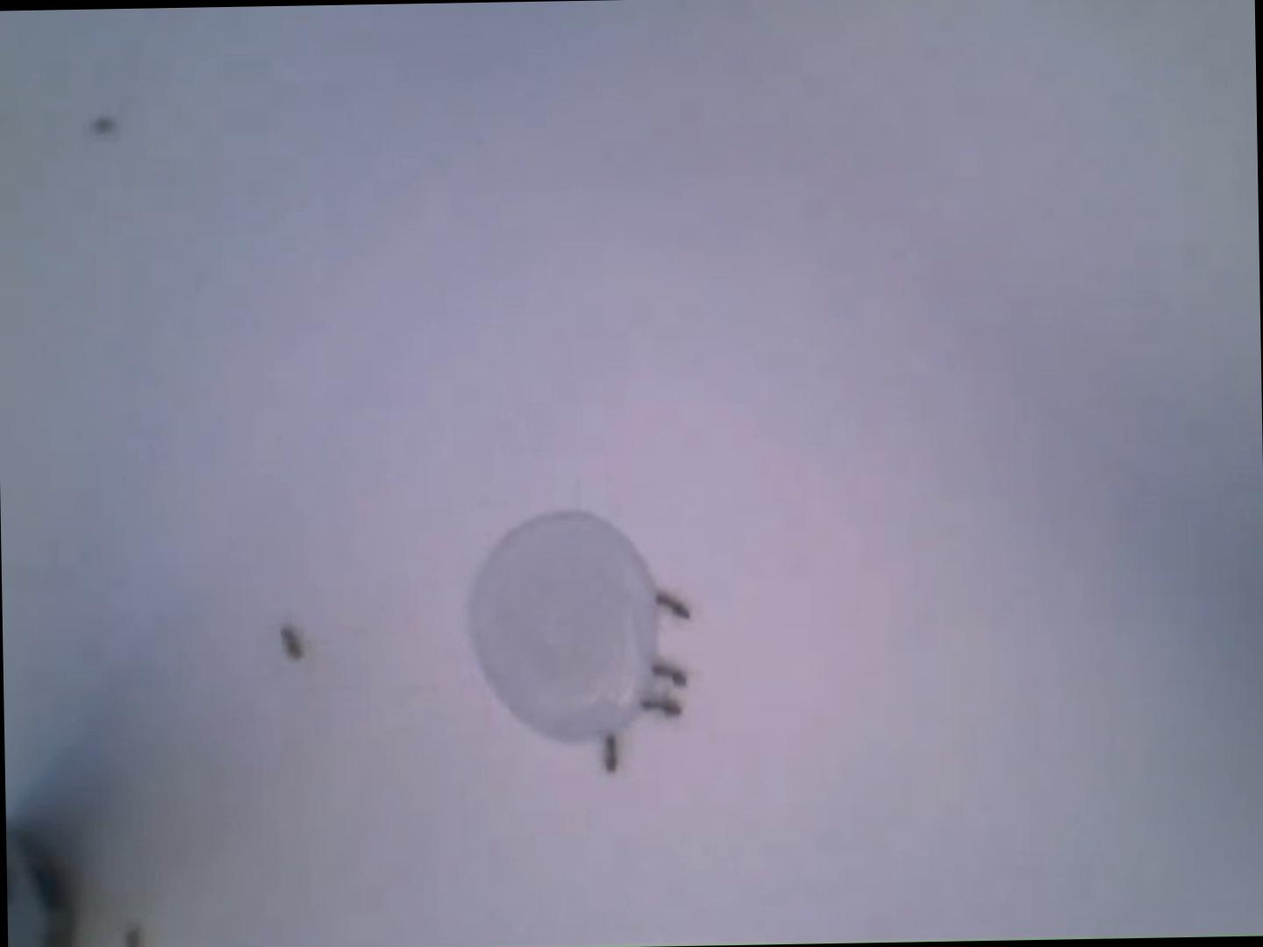Ant: (654, 658, 692, 686), (659, 589, 692, 620), (645, 692, 684, 717), (283, 623, 308, 659), (660, 690, 687, 719), (606, 733, 623, 773), (94, 115, 118, 135), (127, 924, 146, 947)
